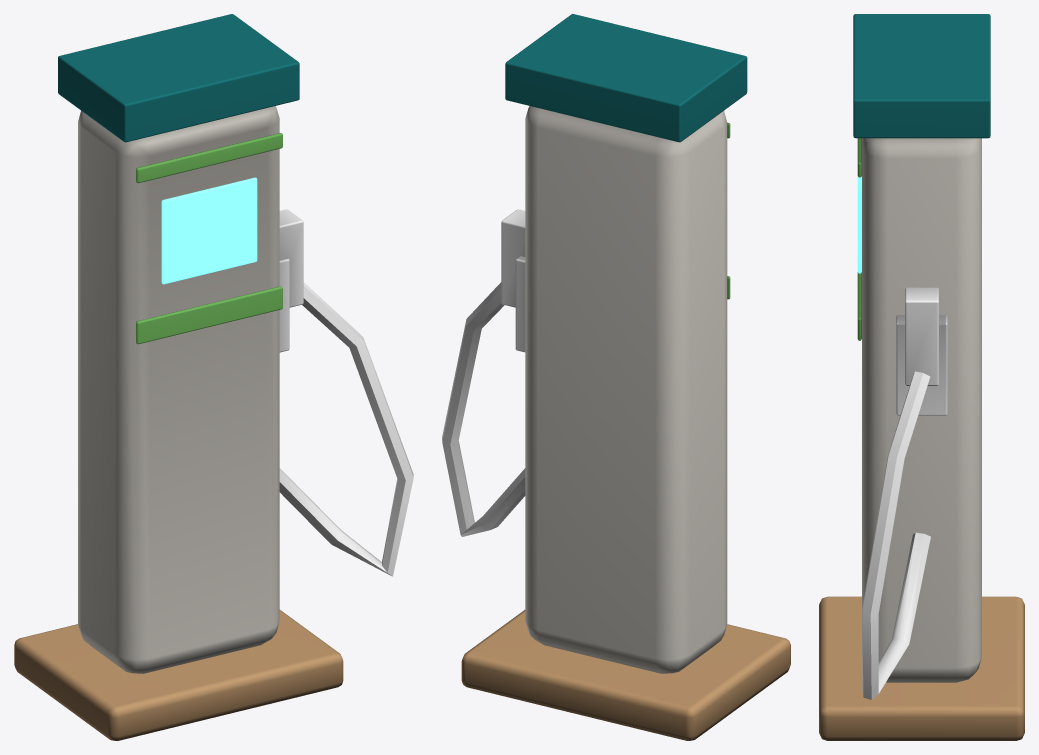
File: ev_charger.fbx
3 views of the same model, side by side, from view 1: azimuth 30°, elevation 25°; view 2: azimuth 150°, elevation 25°; view 3: azimuth 270°, elevation 25° (orthographic).
Visible parts, largest first — view 1: ev_charger; view 2: ev_charger; view 3: ev_charger.
Part boxes in pixels (x1=…): ev_charger: x1=14, y1=14, x2=413, y2=740; ev_charger: x1=442, y1=14, x2=790, y2=740; ev_charger: x1=819, y1=14, x2=1024, y2=740.
Bounding box in the file's own units: 0.8919 × 1.62 × 0.48.
